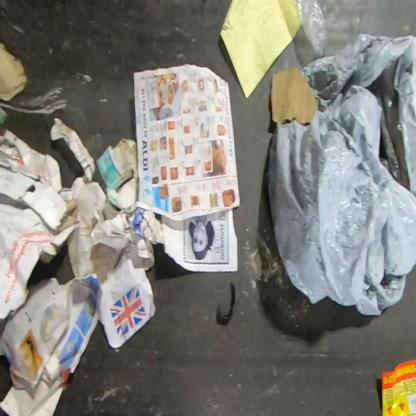cardboard: (90, 208, 164, 350), (0, 202, 79, 325), (218, 0, 302, 100), (0, 126, 75, 200), (0, 166, 81, 233), (94, 137, 138, 214), (270, 65, 319, 125), (0, 41, 29, 103)
soft_plastic: (266, 32, 415, 318), (295, 0, 329, 60)
